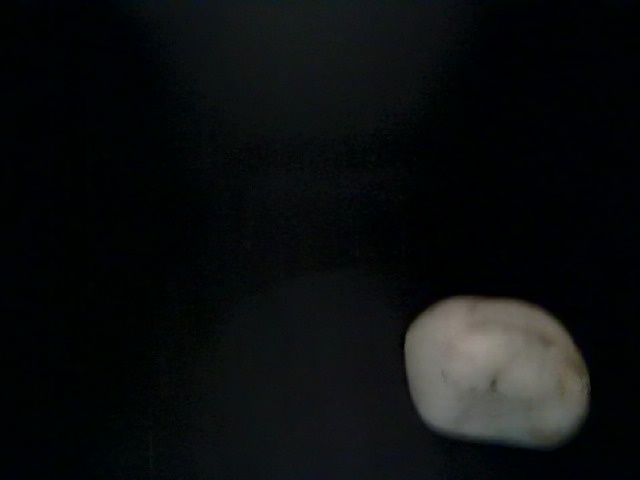QTLJ: (382, 319, 609, 480)
